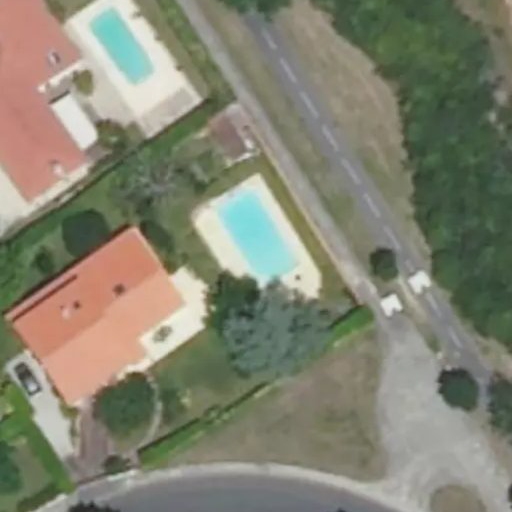pool: (211, 215, 300, 268)
